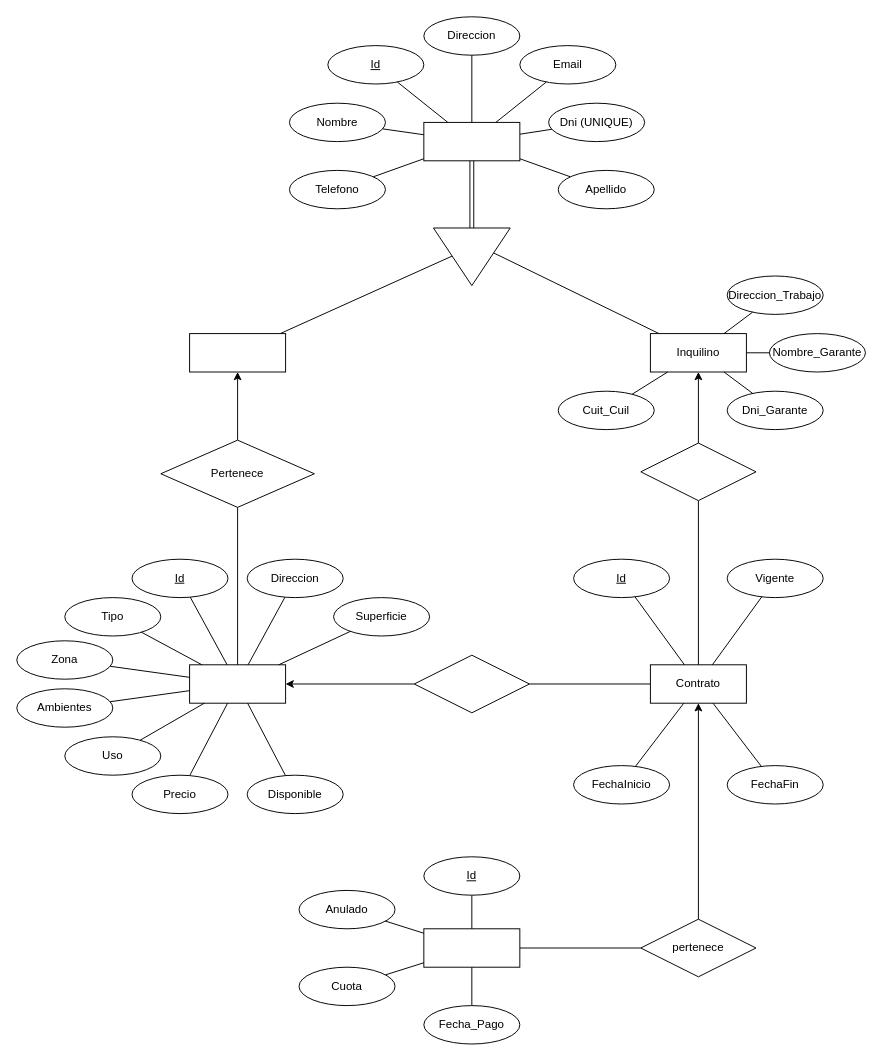
The diagram is 882 pixels wide and 1061 high, and some of its shapes have lost their labels. Here are the shapes that lost their labels. From the top down, the centre of each, then its label:
the point at 471,141: Persona
the point at 471,256: es
the point at 237,352: Propietario
the point at 698,471: tiene
the point at 237,683: Inmueble
the point at 471,683: alquiler
the point at 471,947: Pago
